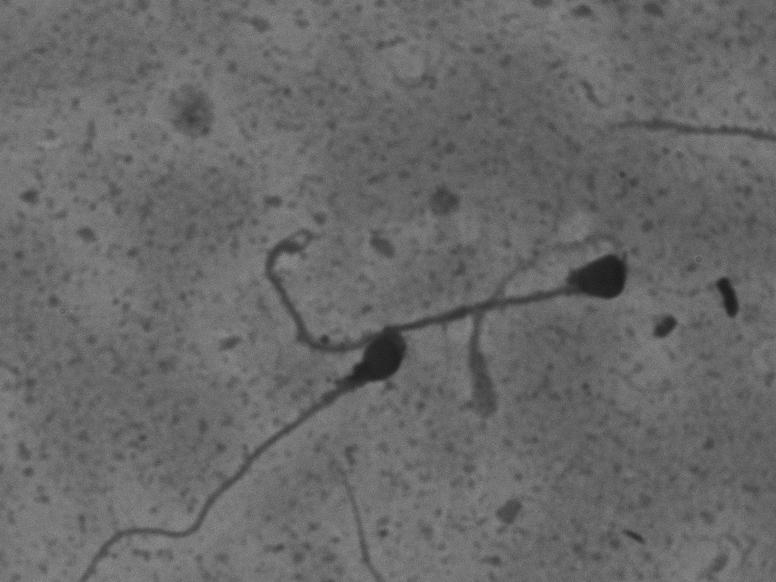Abnormal: (74, 337, 396, 579), (255, 218, 638, 363)
